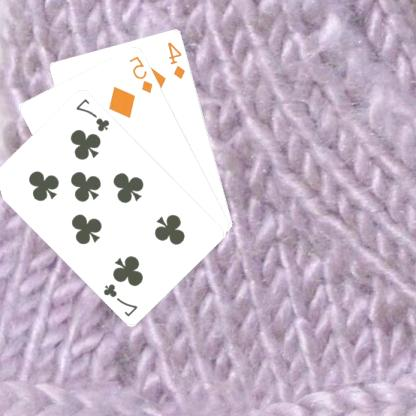4D: (166, 39, 188, 80)
5D: (128, 53, 156, 94)
7C: (102, 280, 141, 318), (75, 95, 113, 133)
